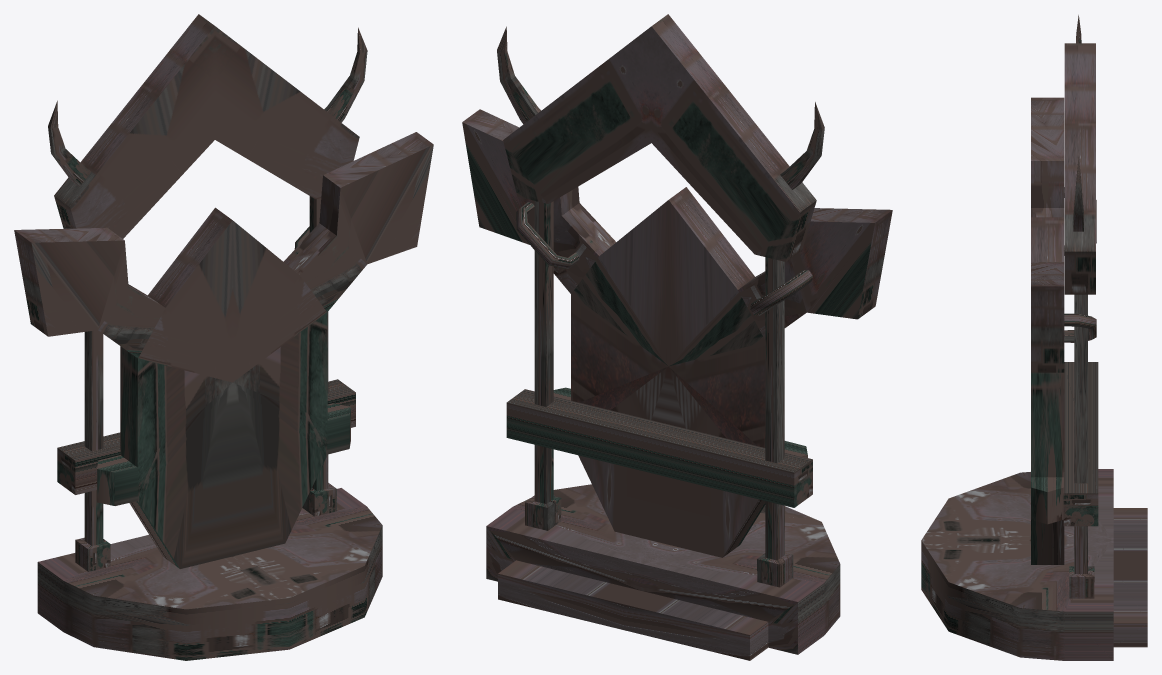
The model's file is sb_obj_DemonsCastle001_RestraintChain_col.fbx.
3 renders of one model, left to right at view 1: azimuth 30°, elevation 25°; view 2: azimuth 150°, elevation 25°; view 3: azimuth 270°, elevation 25°, orthographic. The views are drawn at different scales.
Visible parts, largest first — view 1: sb_obj_DemonsCastle001_RestraintChain_col; view 2: sb_obj_DemonsCastle001_RestraintChain_col; view 3: sb_obj_DemonsCastle001_RestraintChain_col.
Boxes of the visible parts, bbox=[...] form: sb_obj_DemonsCastle001_RestraintChain_col: bbox=[14, 14, 433, 660]; sb_obj_DemonsCastle001_RestraintChain_col: bbox=[462, 14, 892, 660]; sb_obj_DemonsCastle001_RestraintChain_col: bbox=[921, 15, 1147, 660].
Bounding box in the file's own units: 1.69 × 2.29 × 0.8592.
